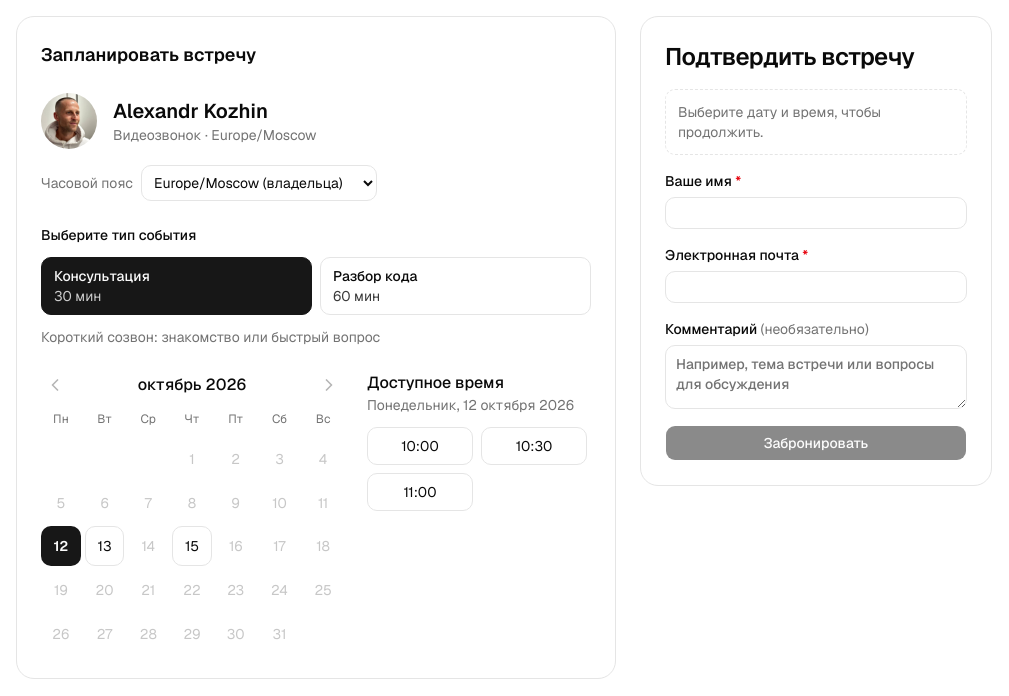
it: главный экран записи › форма активна только при выбранном слоте, имени и корректной почте
This screenshot has width=1009, height=696.
Expected: the button "Забронировать" is disabled, [665,425,967,461]
Expected: the text "Выберите дату и время, чтобы продолжить." is shown, [665,89,967,155]
Click the button "10:30": (534, 446) [481,427,587,465]
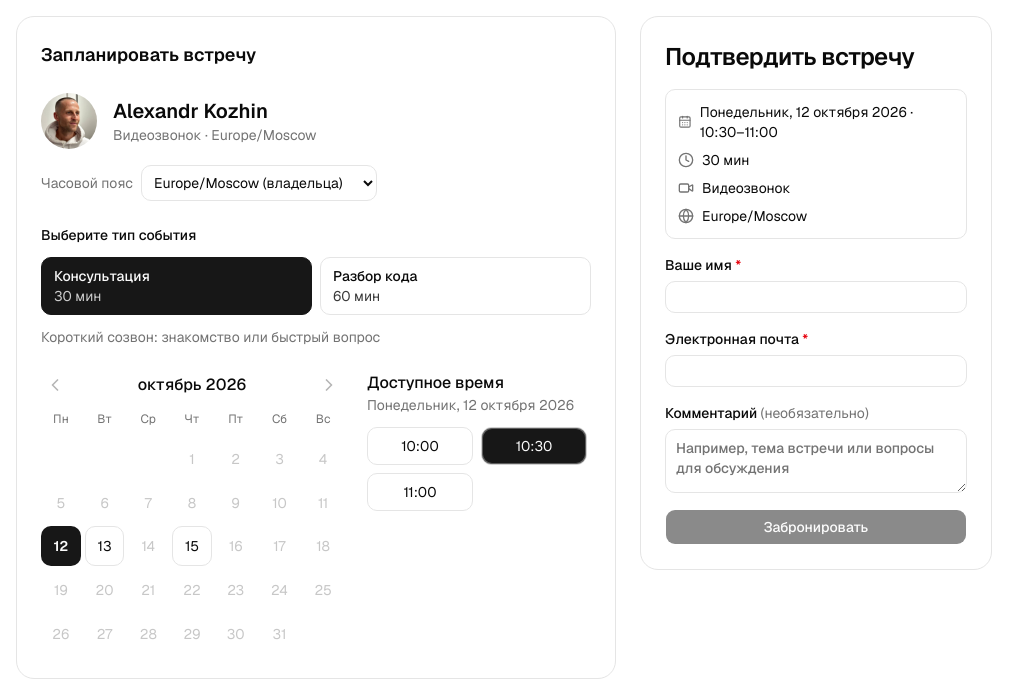
Expected: the button "Забронировать" is disabled, [665,509,967,545]
Expected: the list item "Понедельник, 12 октября 2026 · 10:30–11:00" is shown, [678,102,954,142]
Expected: the list item "30 мин" is shown, [678,151,749,169]
In the field labelled "Ваше имя *": (816, 297) [665,281,967,313], type "Анна"
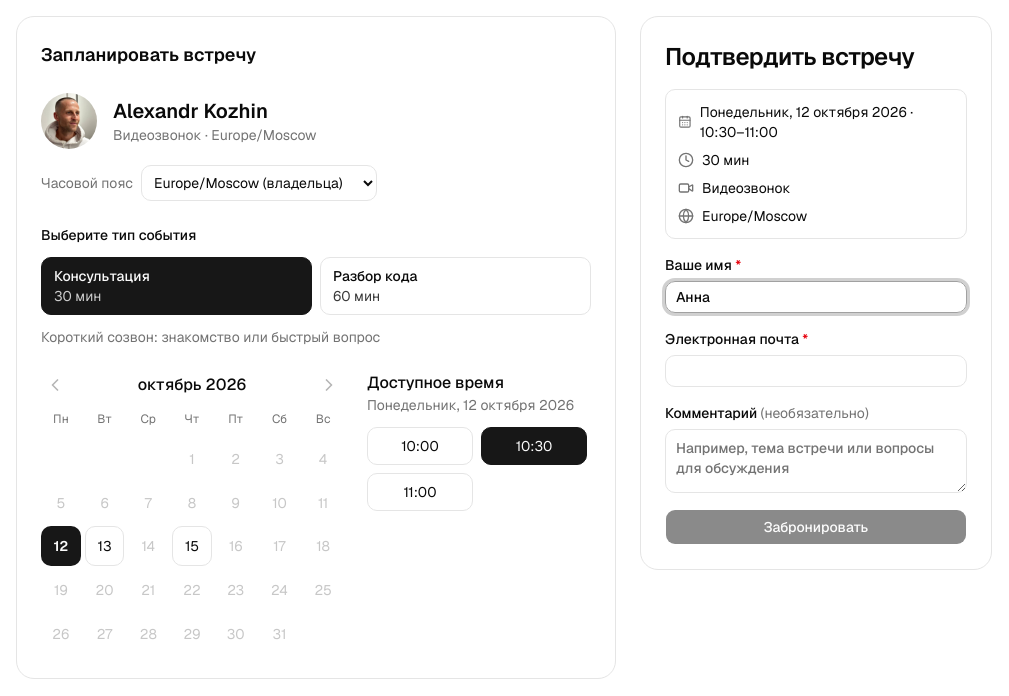
In the field labelled "Электронная почта *": (816, 371) [665,355,967,387], type "не-почта"
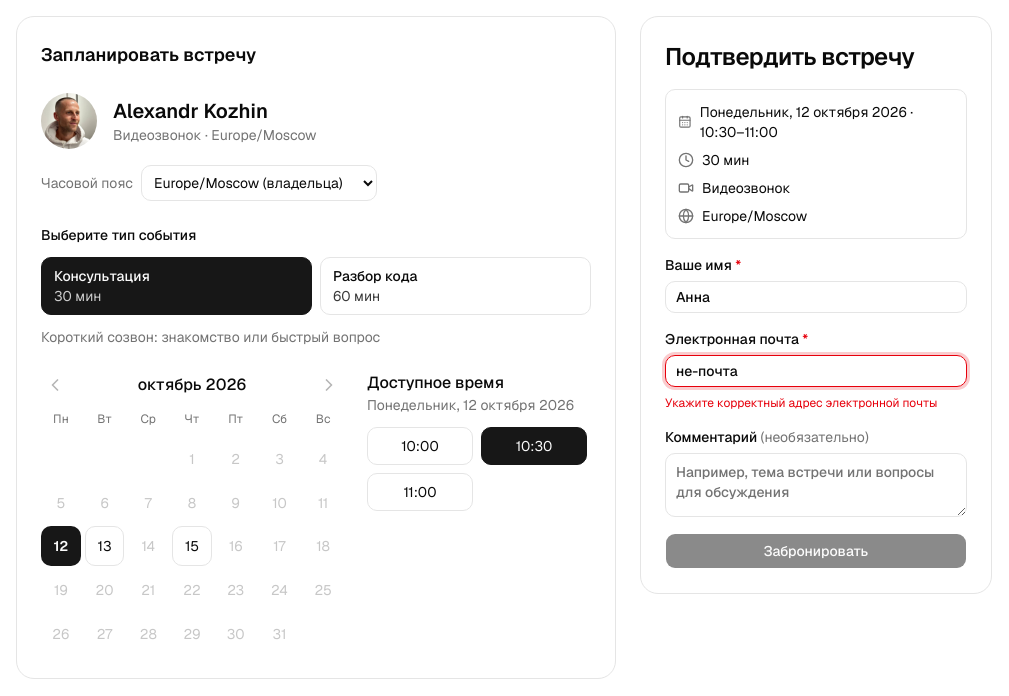
Expected: the button "Забронировать" is disabled, [665,533,967,569]
Expected: the message reads "Укажите корректный адрес электронной почты", [665,395,937,411]
Replace the text in the field labelled "Электронная почта *" with "anna@example.com": (816, 371) [665,355,967,387]
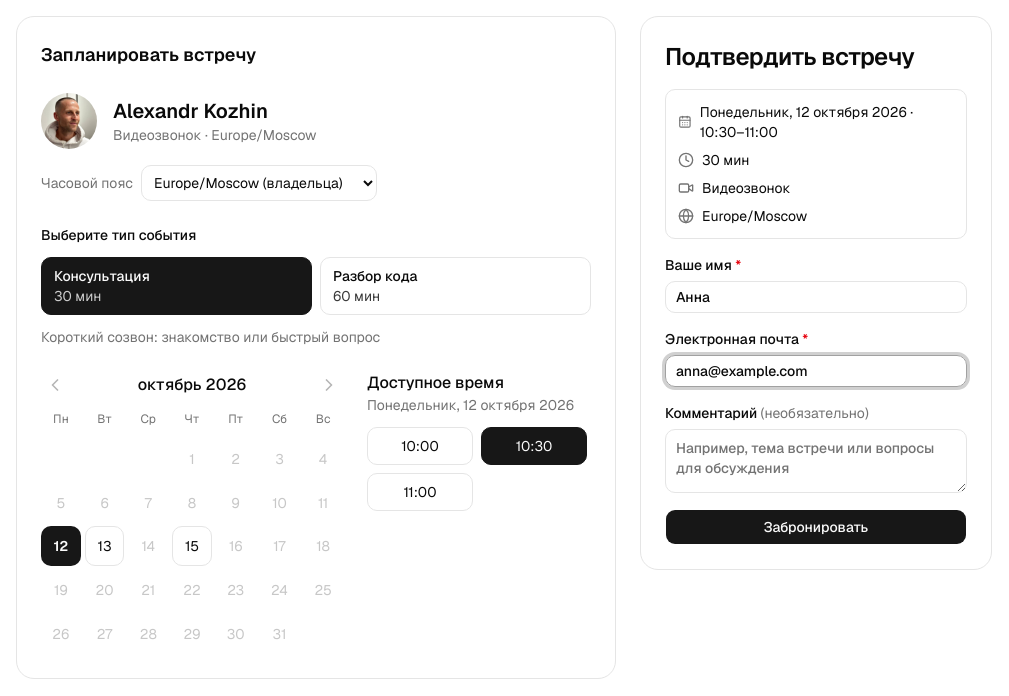
Expected: the button "Забронировать" is enabled, [665,509,967,545]
